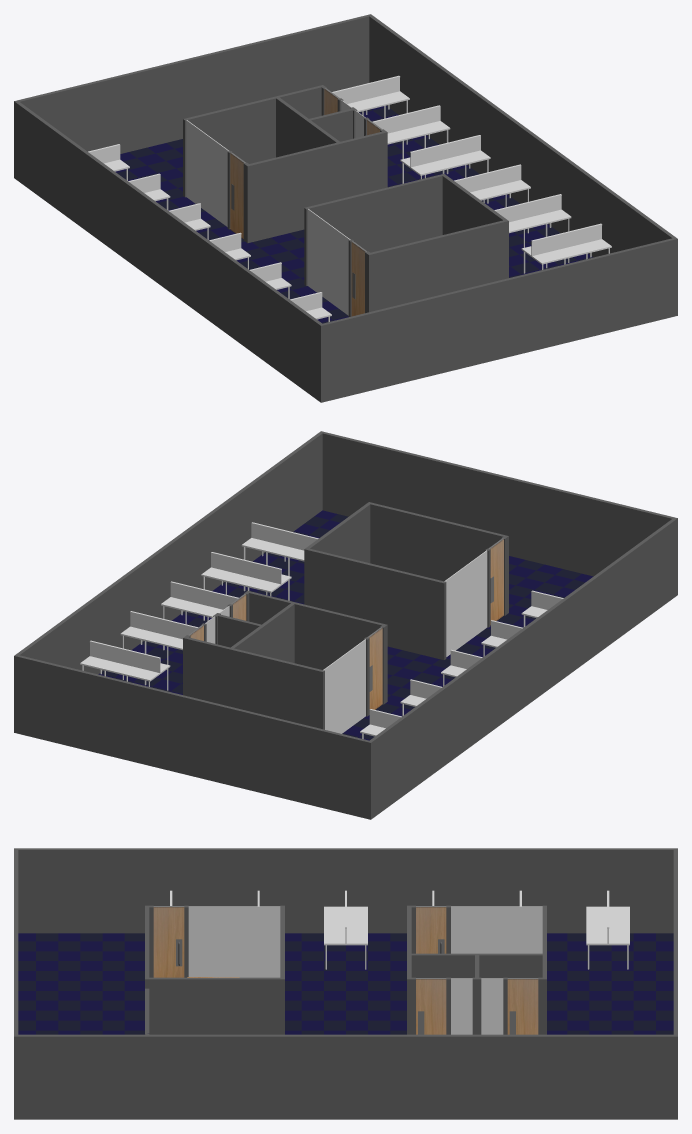
Rendered from Office.fbx.
3 views of the same model, one above another, from view 1: azimuth 30°, elevation 25°; view 2: azimuth 150°, elevation 25°; view 3: azimuth 270°, elevation 25° (orthographic). The views are drawn at different scales.
Visible parts, largest first — view 1: Cube.003, Plane, Cube.015, Cube.014, Cube.016, Cube.013, Cube.018, Cube.019, Cube.004, Cube.011, Cube.023, Cube.024 (+4 smaller); view 2: Cube.003, Plane, Cube.013, Cube.016, Cube.014, Cube.015, Cube.019, Cube.011, Cube.004, Cube.021, Cube.025, Cube.022 (+2 smaller); view 3: Cube.003, Plane, Cube.011, Cube.024, Cube.025, Cube.008, Cube.029, Cube.004.
Part boxes in pixels (x1,y1,x2,y2): Cube.003: (14,14,677,402); Plane: (115,106,593,323); Cube.015: (400,135,490,183); Cube.014: (521,223,611,273); Cube.016: (372,105,450,159); Cube.013: (494,194,571,247); Cube.018: (332,75,409,118); Cube.019: (454,164,530,207); Cube.004: (230,152,245,238); Cube.011: (351,241,366,316); Cube.023: (128,173,170,210); Cube.024: (88,144,129,180); Cube.003: (14,431,677,819); Plane: (98,510,593,740); Cube.013: (201,552,291,600); Cube.016: (80,640,170,690); Cube.014: (241,522,318,576); Cube.015: (120,611,198,664); Cube.019: (161,581,238,624); Cube.011: (488,538,503,624); Cube.004: (367,627,382,709); Cube.021: (521,590,563,627); Cube.025: (441,649,482,686); Cube.022: (400,679,442,716); Cube.003: (14,848,677,1119); Plane: (18,933,673,1034); Cube.011: (153,906,184,977); Cube.024: (586,890,629,969); Cube.025: (324,890,367,969); Cube.008: (507,978,538,1034); Cube.029: (416,978,446,1034); Cube.004: (416,906,446,953).
Bounding box in the file's own units: 10200 × 2100 × 15200.
8 materials, 1 textured.
